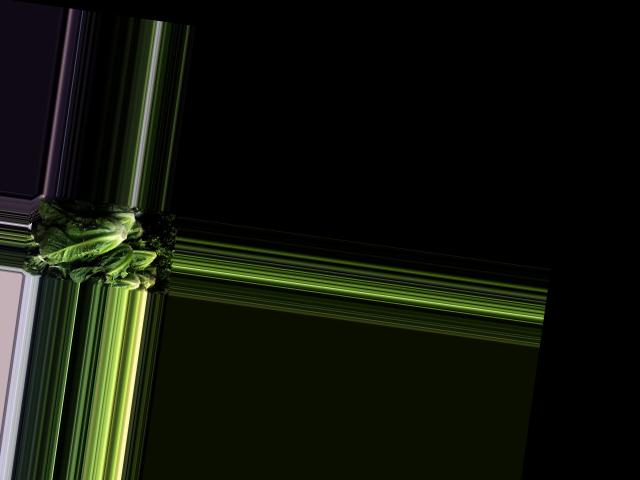lettuce: (66, 237, 137, 287)
